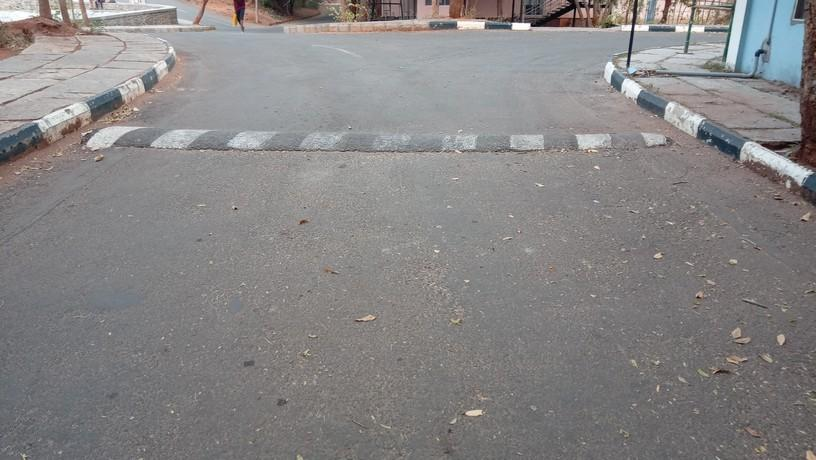speedbreaker: (62, 116, 694, 152)
